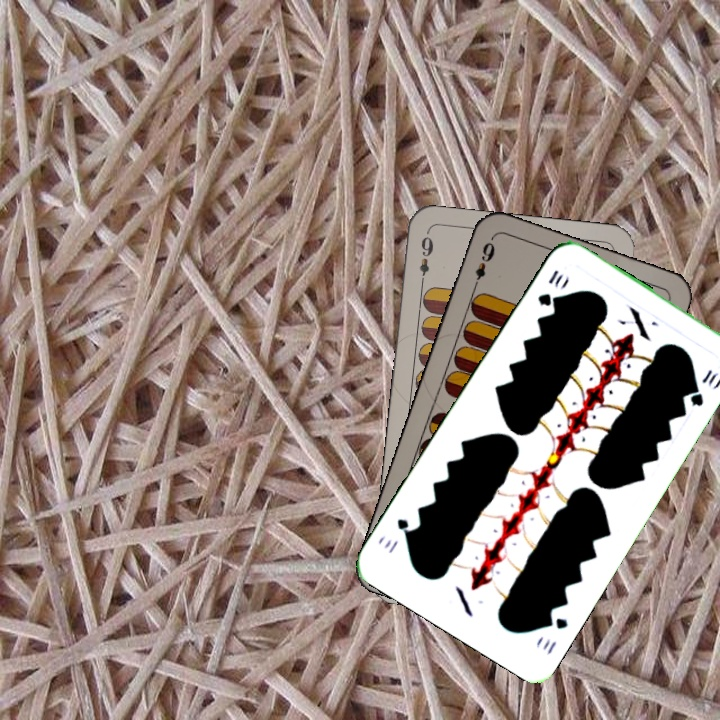E9: (469, 235, 498, 292), (415, 232, 436, 289)
G10: (538, 611, 571, 658), (533, 265, 565, 309)
